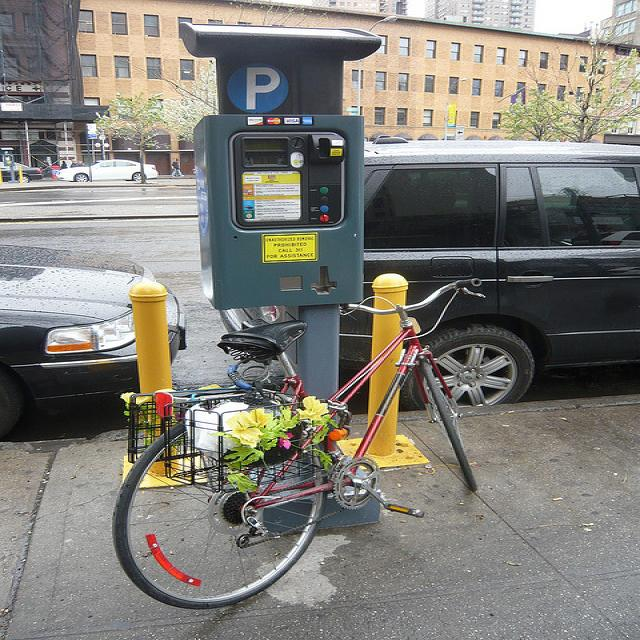Vehicle: (351, 145, 640, 411), (0, 231, 192, 423), (55, 159, 159, 183), (0, 162, 44, 183)
